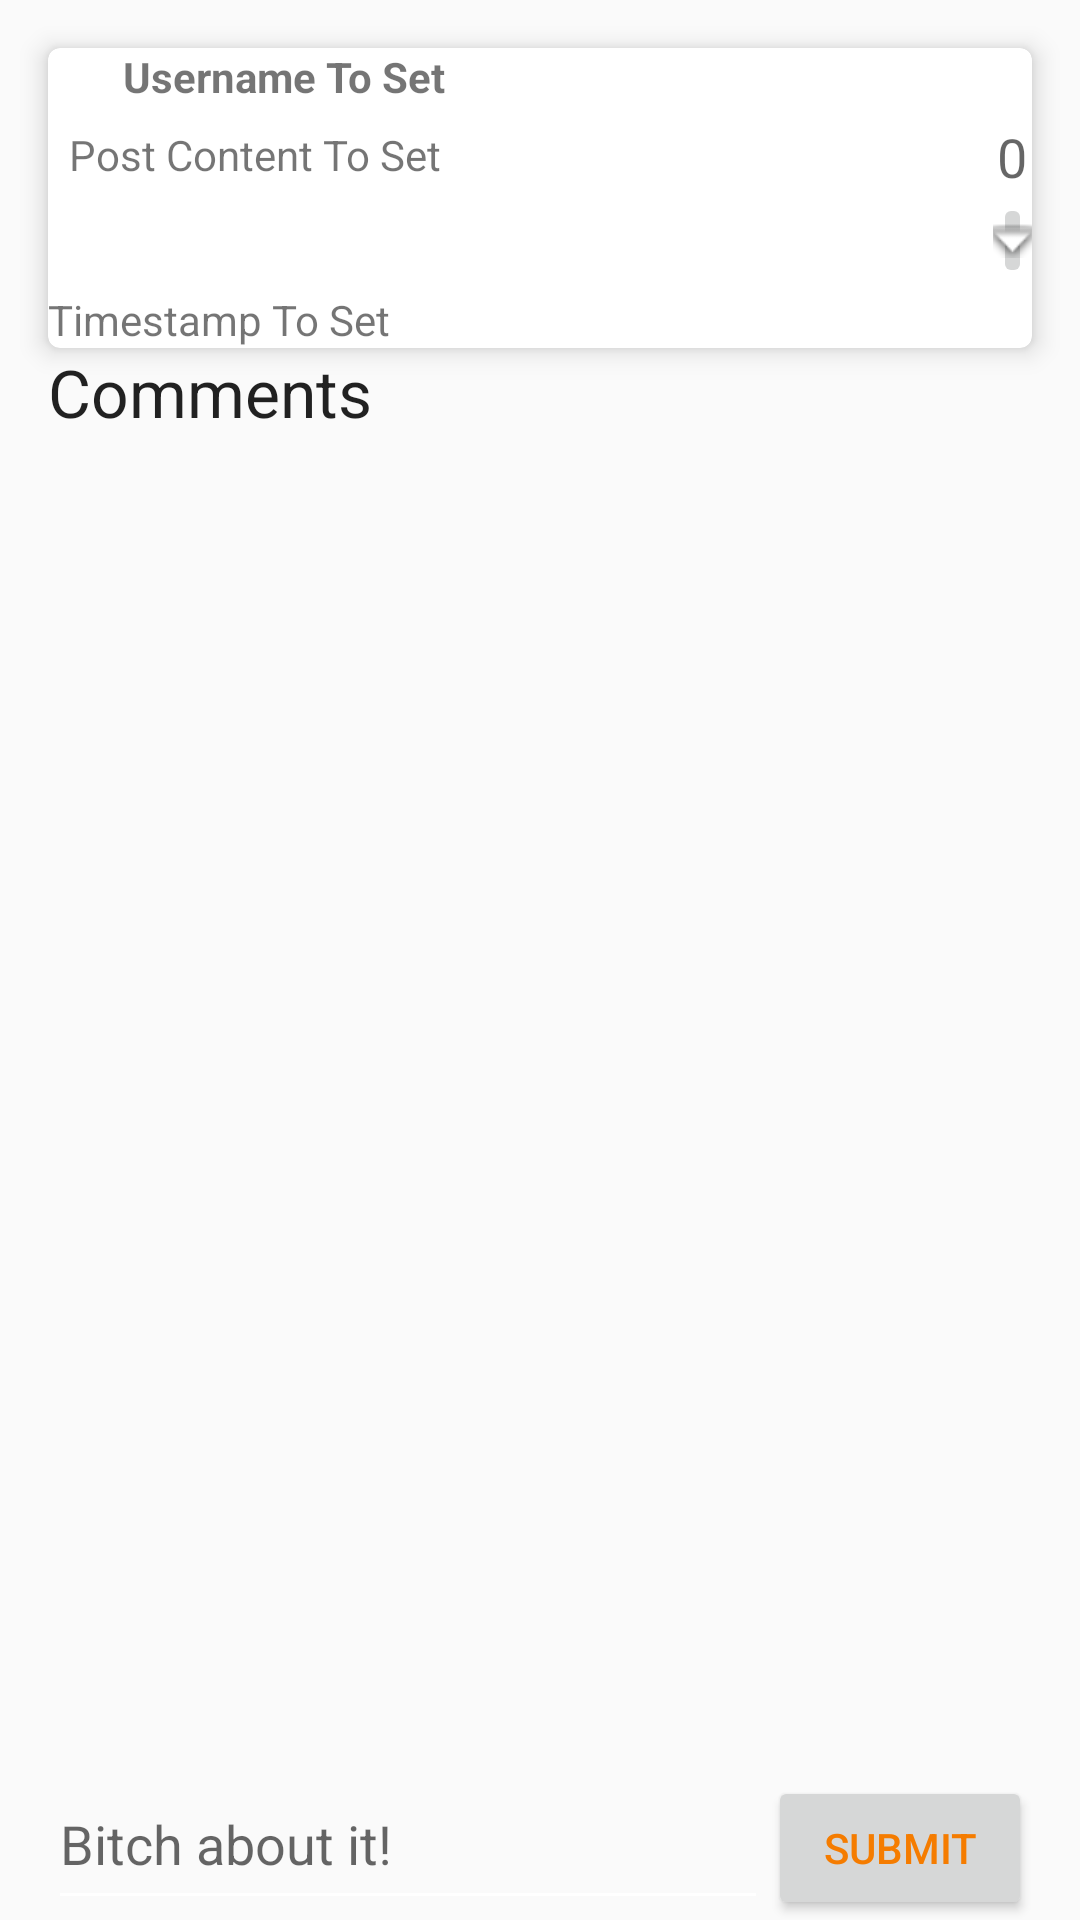

Screen size 1080px×1920px. Icon name, then its center in pixels as [x,y]:
arrow down float: [1012,240]
